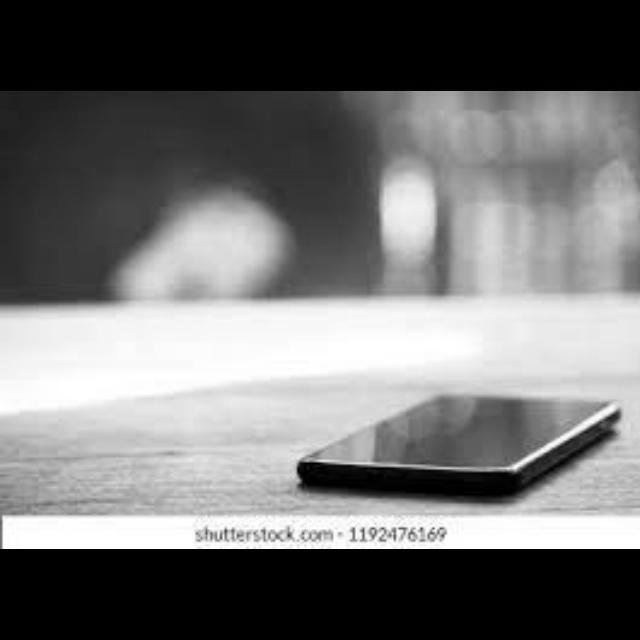fake: (278, 356, 630, 508)
